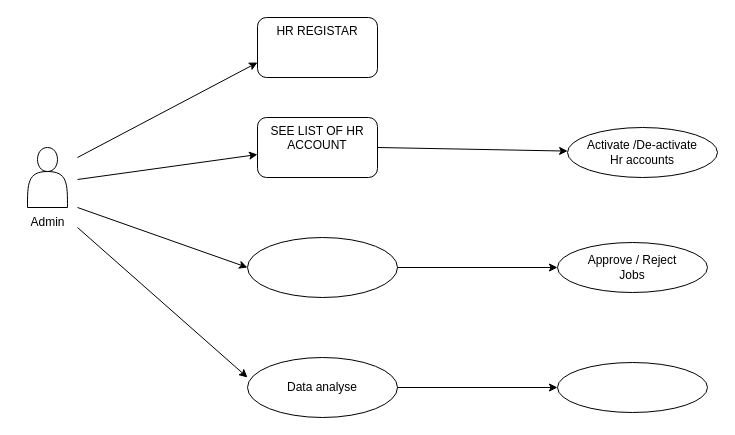
This 735x435 diagram has some shape labels left out. Here are the shapes that lost their labels. From the top down, the centre of each, then its label:
point 322,267: See list all jobs
point 632,387: Data collection with all information
